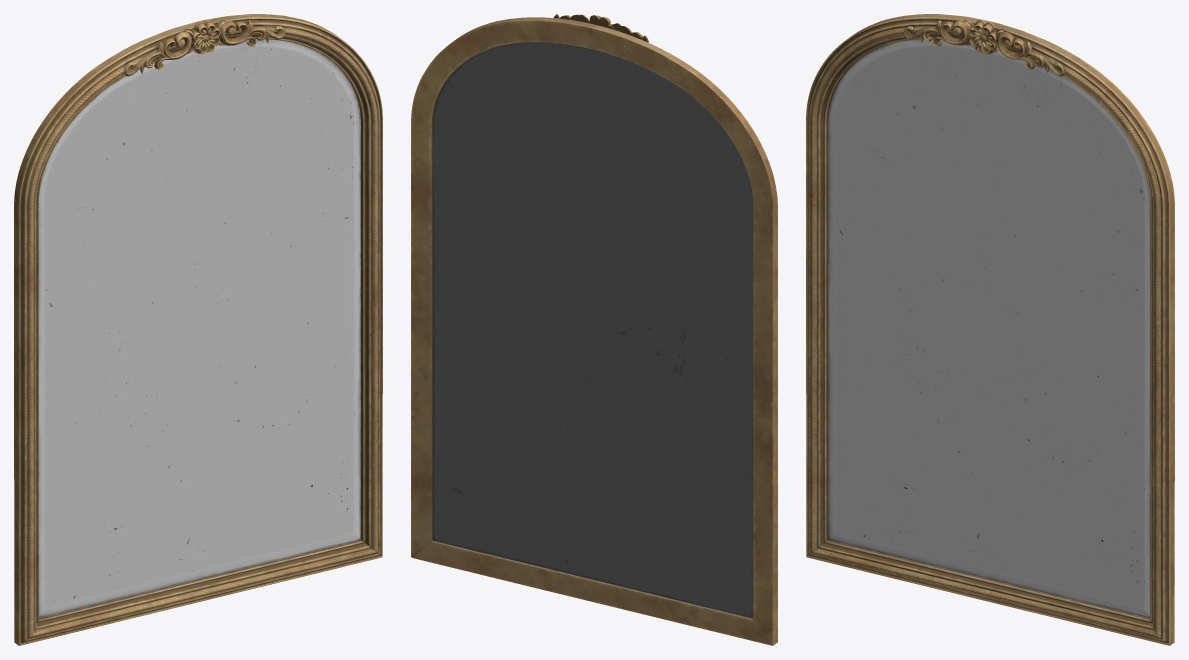
File: ornate_mirror_01.glb
3 renders of one model, left to right at view 1: azimuth 30°, elevation 25°; view 2: azimuth 150°, elevation 25°; view 3: azimuth 330°, elevation 25°, orthographic.
Visible parts, largest first — view 1: ornate_mirror_01; view 2: ornate_mirror_01; view 3: ornate_mirror_01.
Part boxes in pixels (x1,y1,x2,y2): ornate_mirror_01: [14, 14, 382, 645]; ornate_mirror_01: [411, 14, 777, 645]; ornate_mirror_01: [806, 14, 1174, 645].
Size of the model in its own units: 0.4865 by 0.7442 by 0.026.
Materials: 1 (1 with a texture image).
